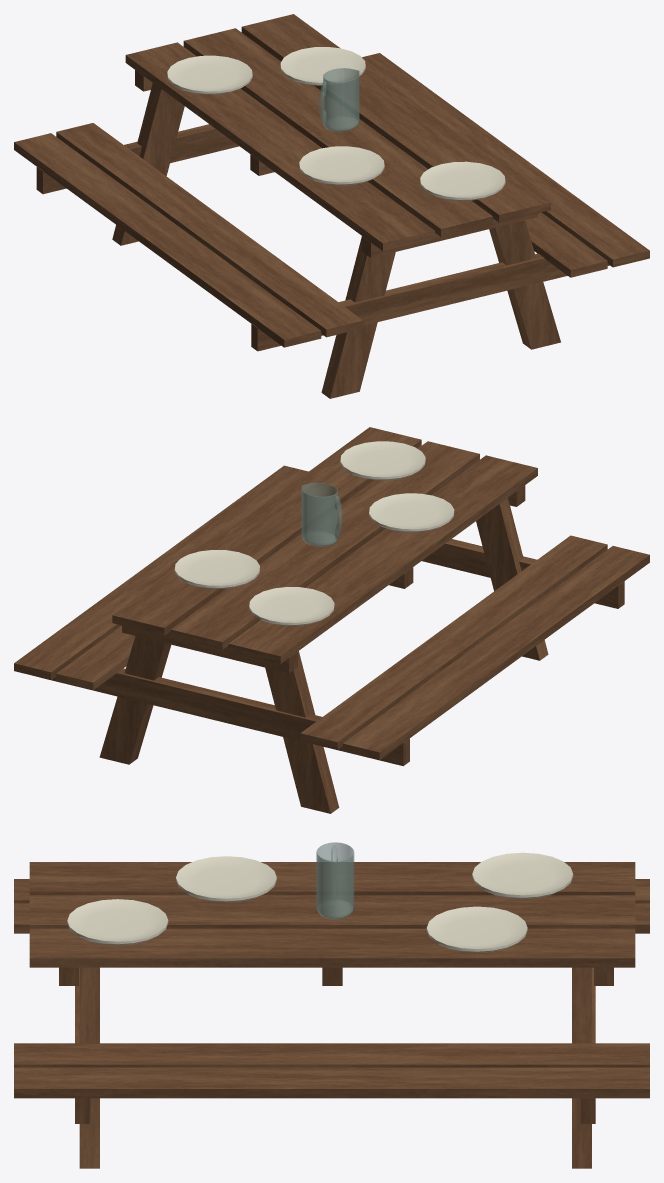
Rendered from PicnicTableWithStuff.fbx.
3 renders of one model, top to bottom at view 1: azimuth 30°, elevation 25°; view 2: azimuth 150°, elevation 25°; view 3: azimuth 270°, elevation 25°, orthographic. The views are drawn at different scales.
Visible parts, largest first — view 1: board10, plate3, plate2, plate1, plate, Cup1; view 2: board10, plate3, plate1, plate2, plate, Cup1; view 3: board10, plate2, plate, plate3, plate1, Cup1.
Part boxes in pixels (bbox=[...]): board10: bbox=[14, 14, 649, 398]; plate3: bbox=[299, 146, 384, 185]; plate2: bbox=[167, 55, 252, 94]; plate1: bbox=[420, 161, 505, 200]; plate: bbox=[280, 47, 365, 85]; Cup1: bbox=[319, 68, 359, 132]; board10: bbox=[14, 427, 649, 813]; plate3: bbox=[369, 493, 454, 532]; plate1: bbox=[340, 441, 425, 480]; plate2: bbox=[249, 587, 334, 625]; plate: bbox=[174, 550, 259, 588]; Cup1: bbox=[301, 482, 342, 546]; board10: bbox=[14, 862, 649, 1168]; plate2: bbox=[472, 852, 573, 898]; plate: bbox=[426, 906, 527, 952]; plate3: bbox=[176, 856, 276, 902]; plate1: bbox=[67, 899, 168, 945]; Cup1: bbox=[316, 842, 354, 919].
Size of the model in its own units: 4.93 by 2.77 by 6.3.
3 materials, 1 textured.
